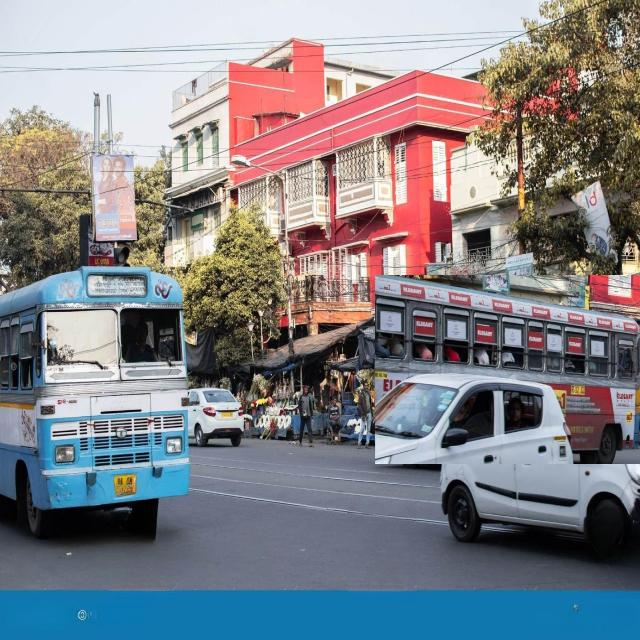bus: (0, 266, 190, 533), (375, 276, 640, 464)
car: (440, 375, 640, 557)
